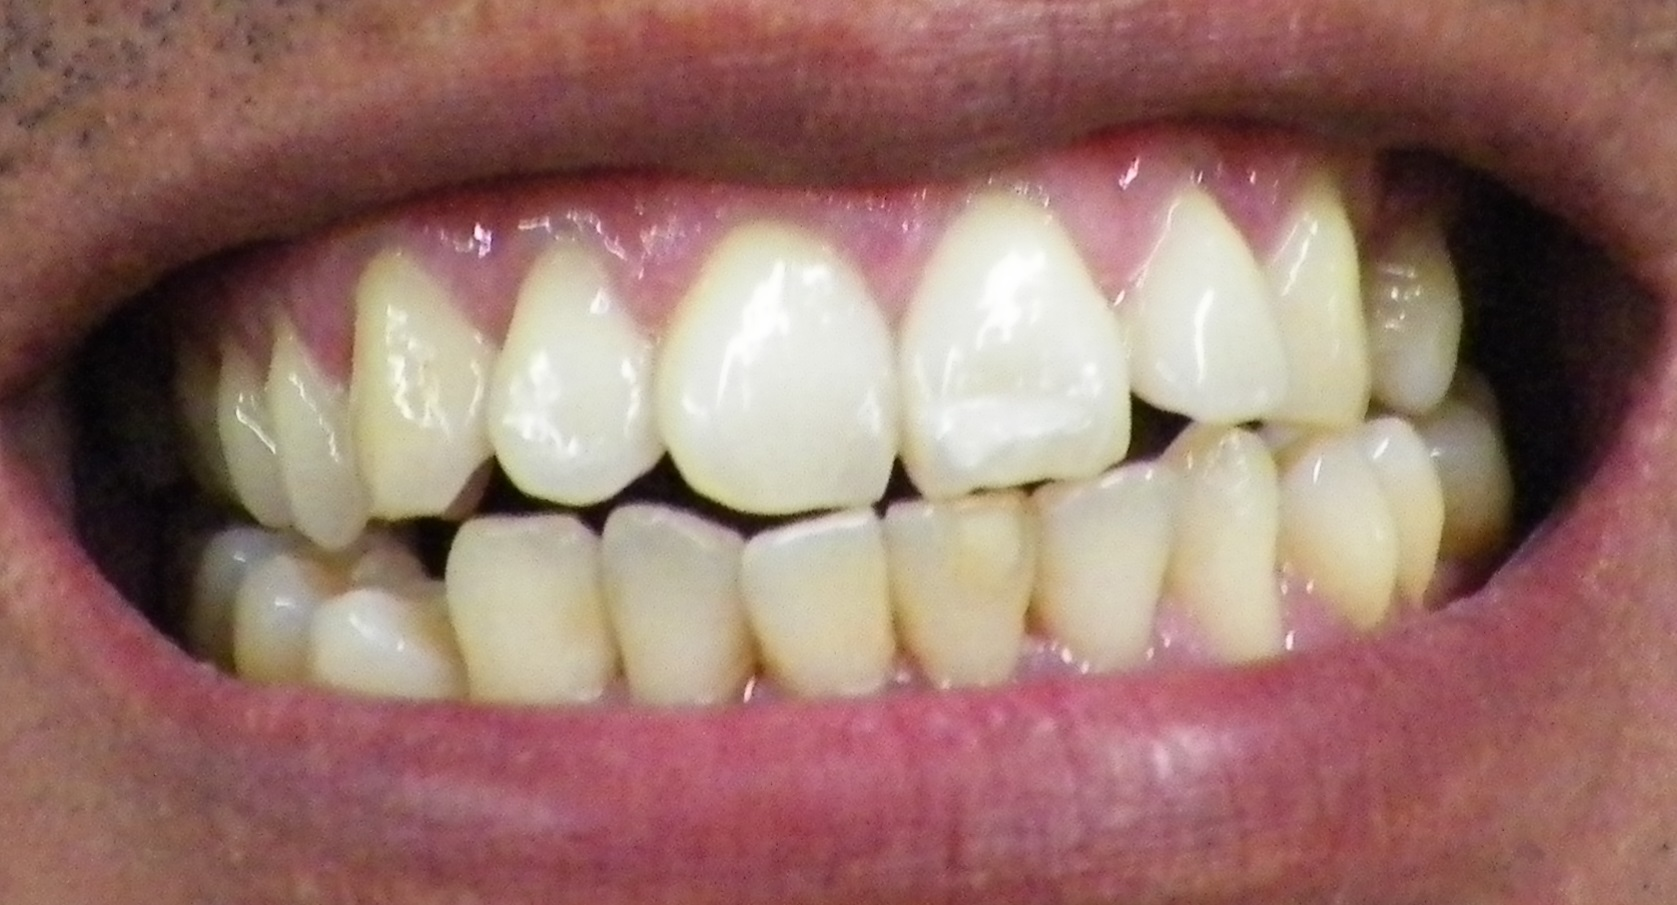boca: (186, 171, 1510, 704)
